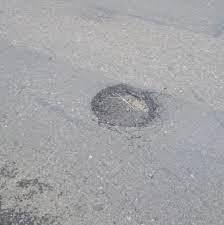Pothole: (64, 63, 179, 140)
